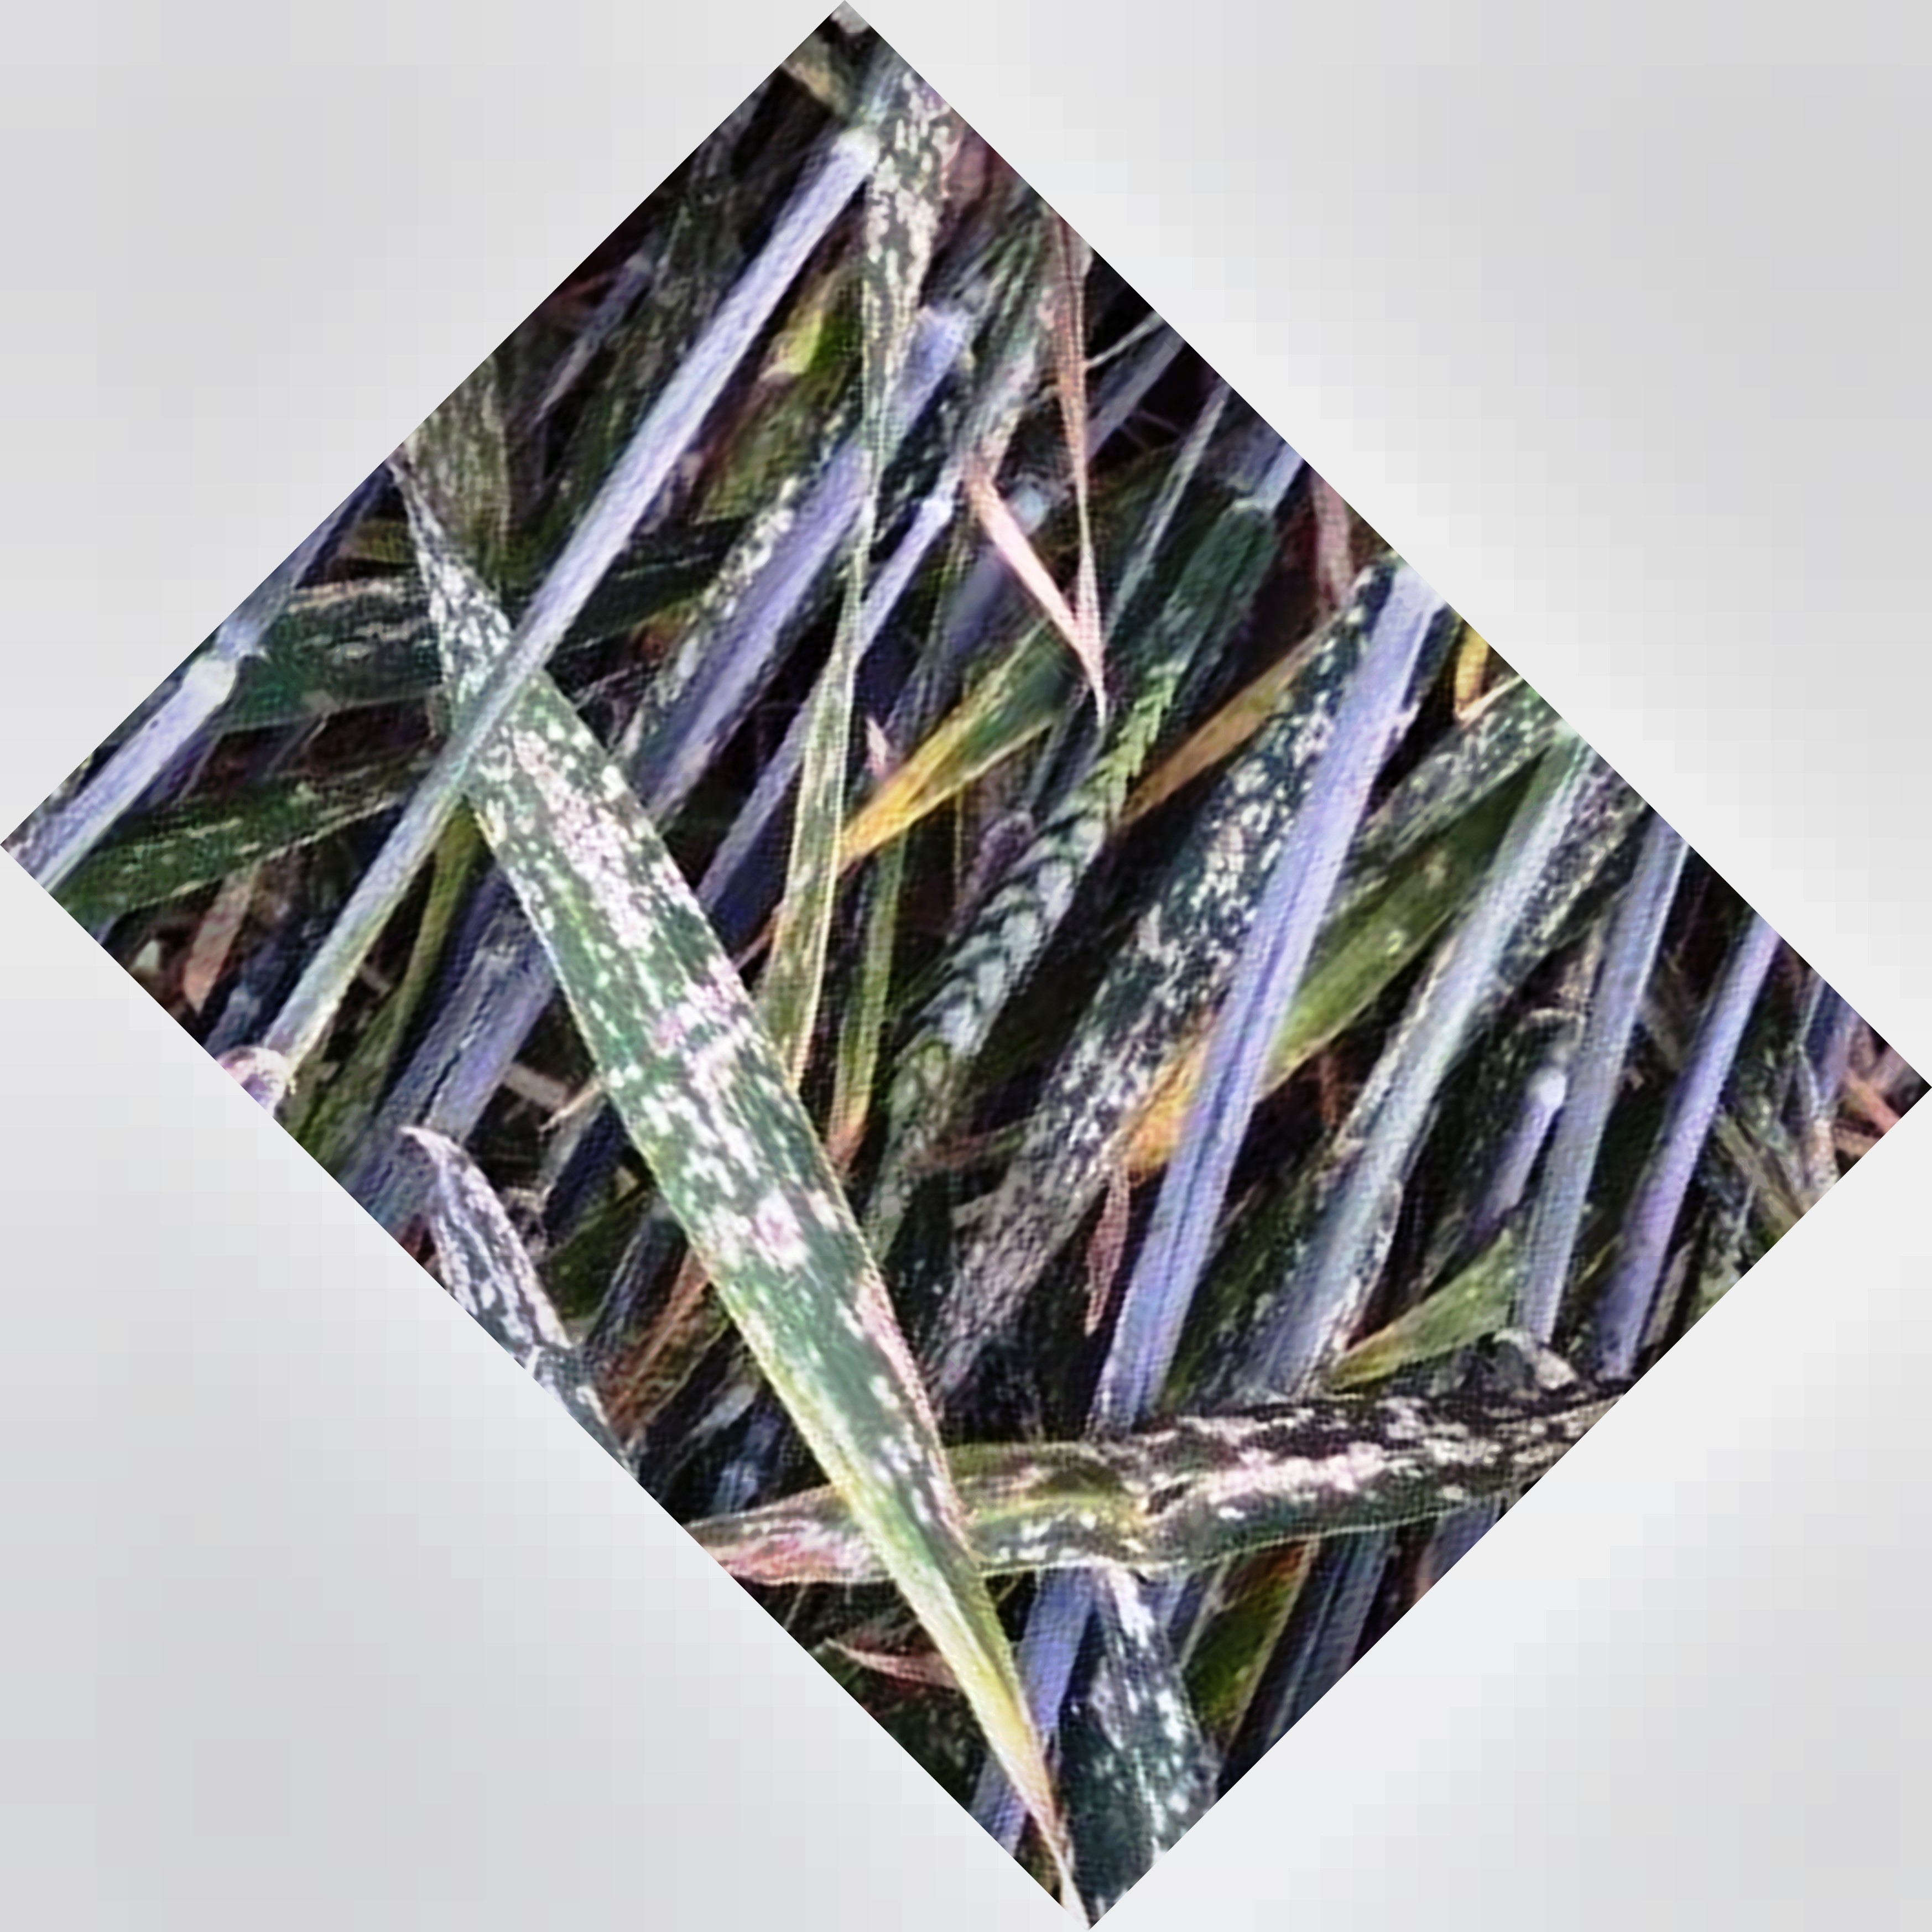Powdery Mildew: (471, 727, 911, 1361), (1007, 683, 1338, 1224)
